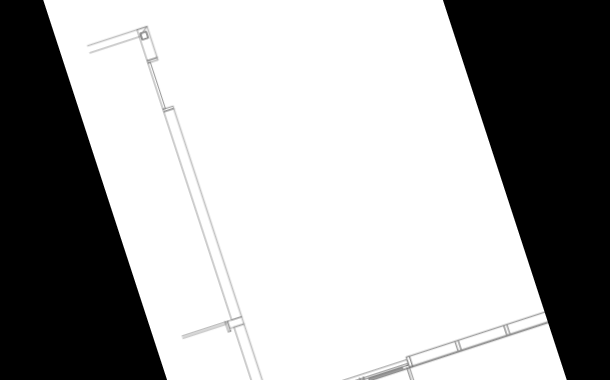double door: (313, 359, 428, 380)
window: (140, 54, 179, 118)
